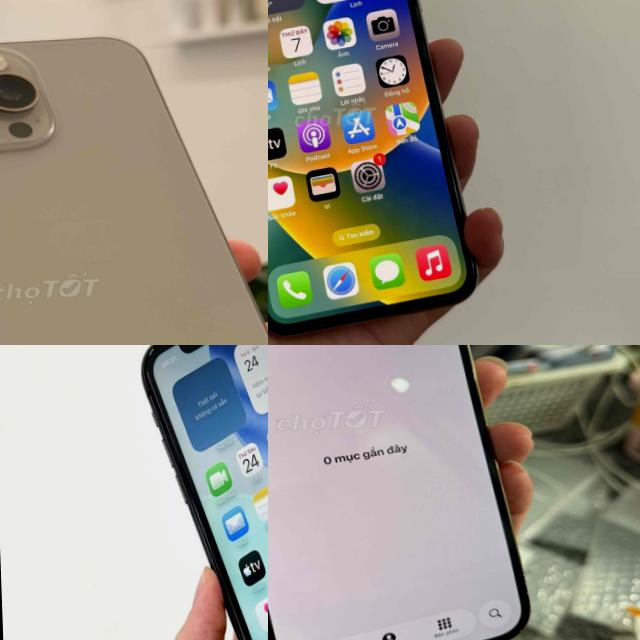gen_11: (131, 345, 268, 640)
gen_12_13: (268, 345, 533, 640)
gen_15: (0, 25, 268, 345)
gen_x_xs: (268, 0, 480, 341)
